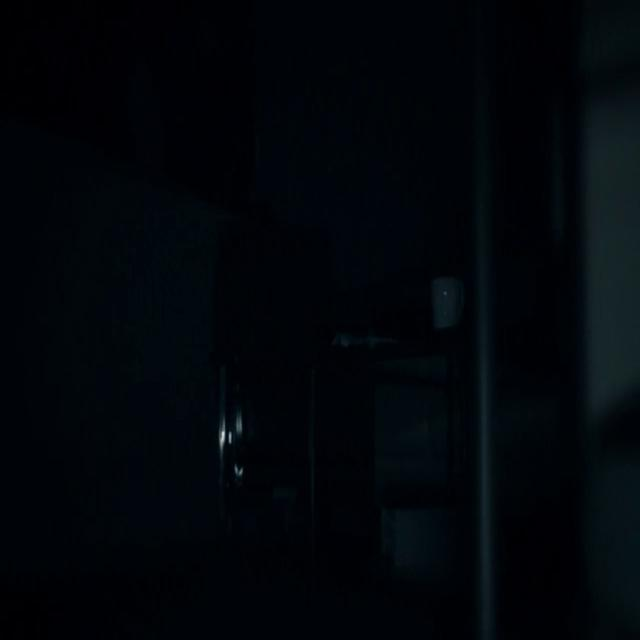Cup: (430, 242, 469, 340)
Table: (265, 318, 481, 615)
